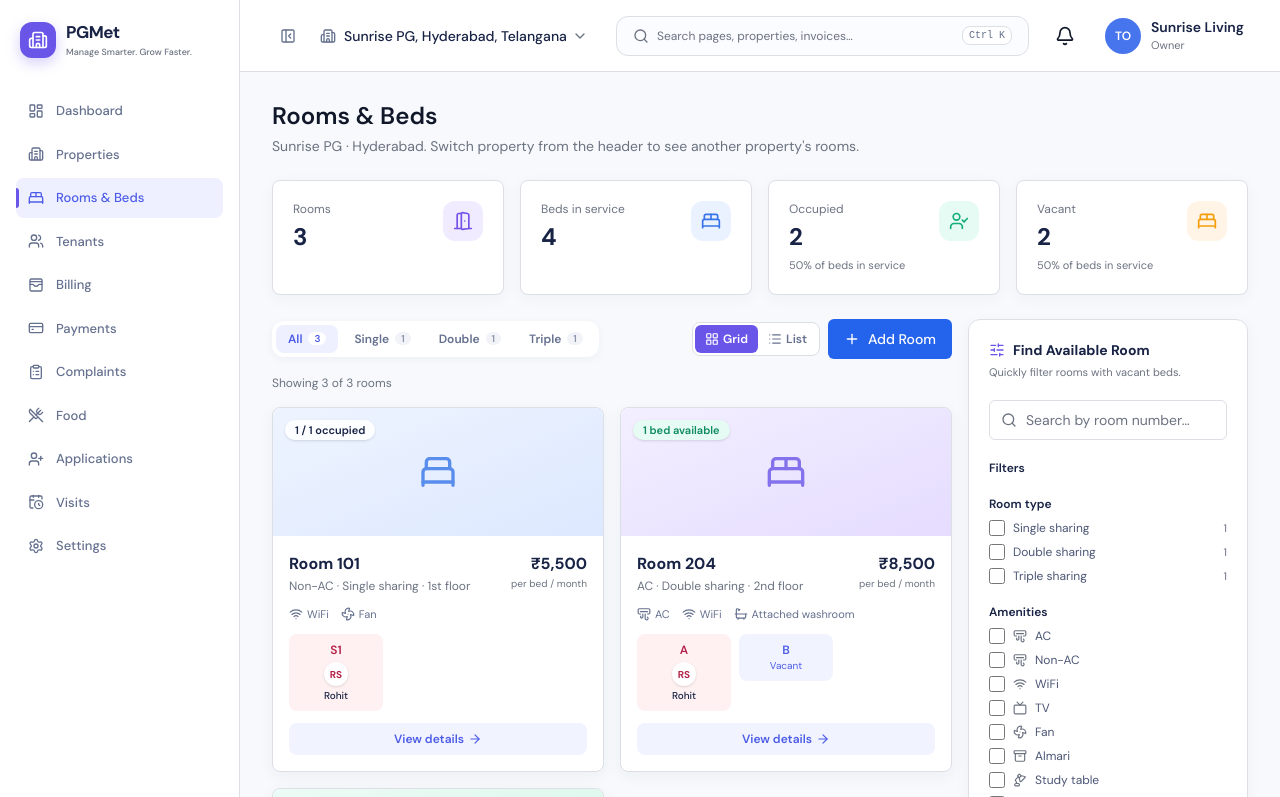
Test: Rooms & Beds page › amenity (incl. Non-AC), availability and price filters use the real room data
Check: the list named "Beds in room 204" is shown, box [637,634,833,711]
Click the checkbox labelled "Non-AC": x=997, y=660 [989,652,1005,668]
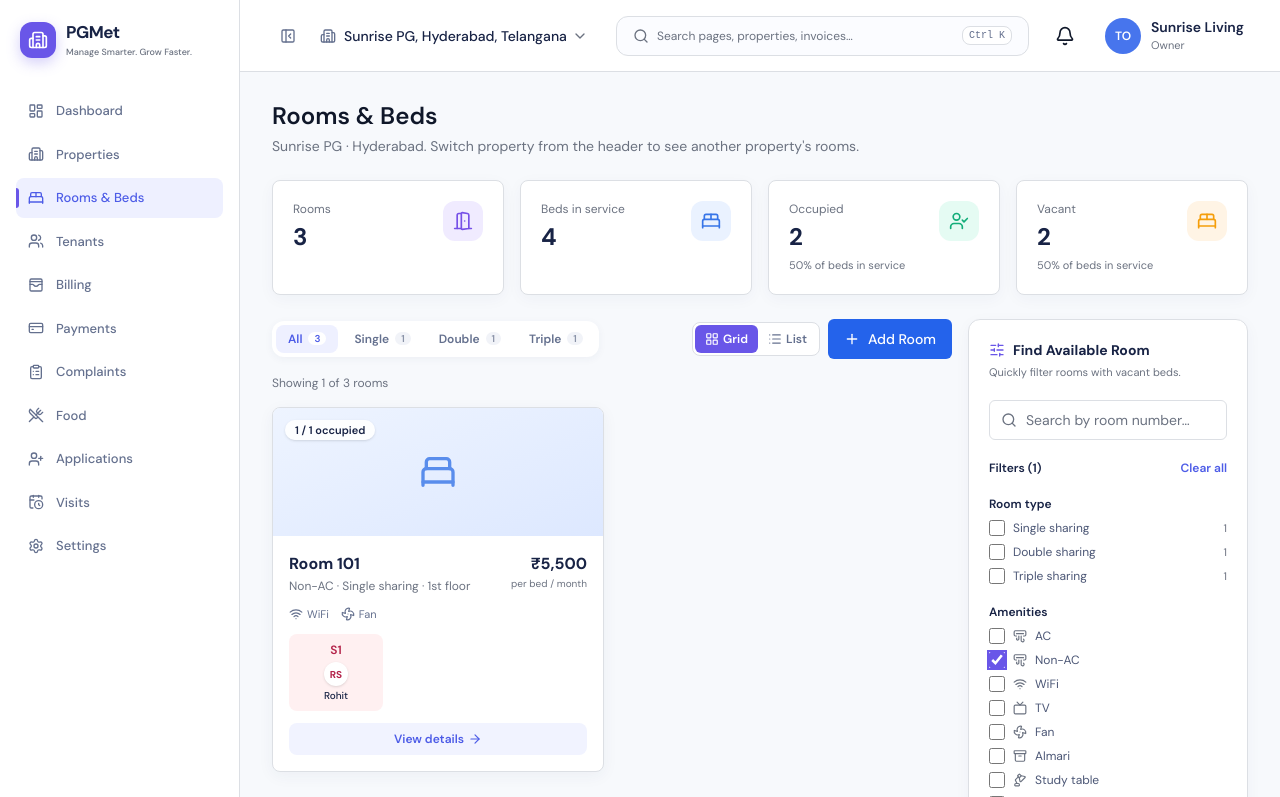
Check: the heading "Room 101" is shown, box [289,552,360,574]
Check: the heading "Room 204" is gone
Click the checkbox labelled "Non-AC": x=997, y=660 [989,652,1005,668]
(page scrolled)
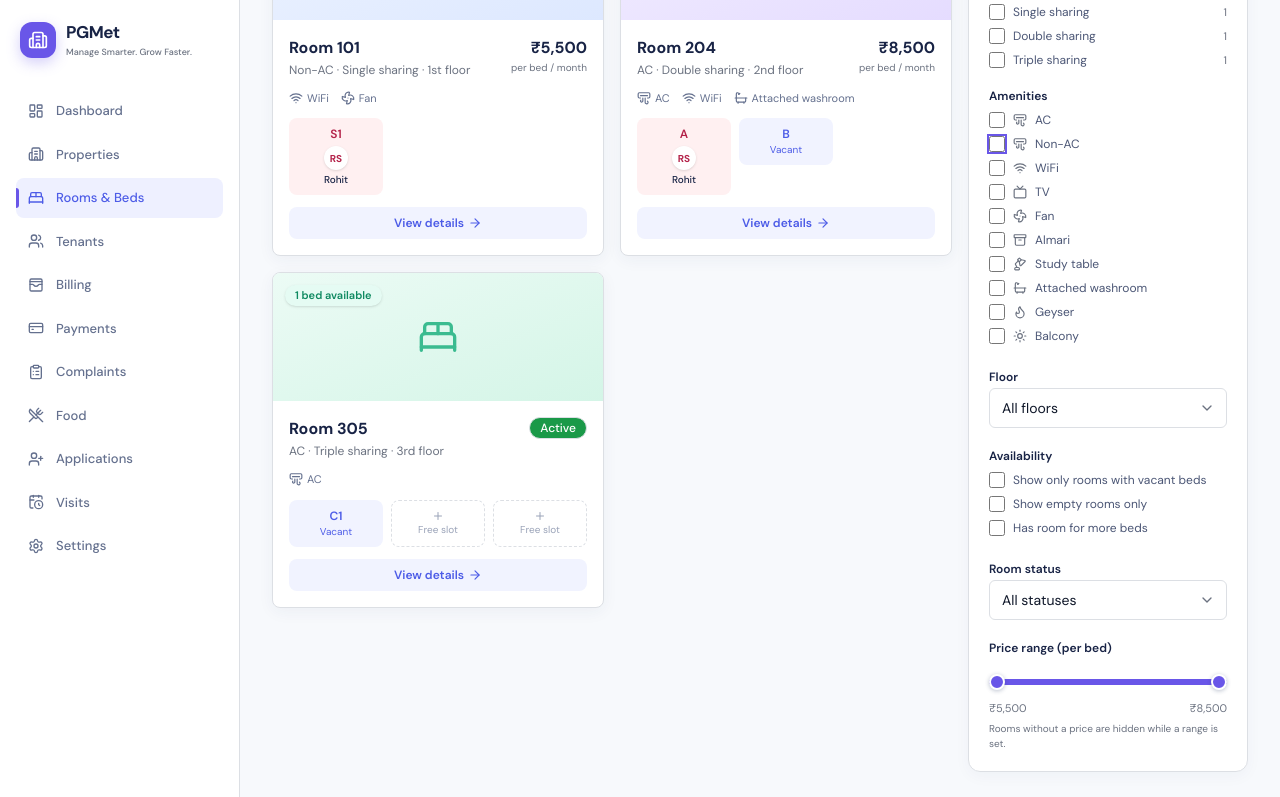
Click the checkbox labelled "Show only rooms with vacant beds": x=997, y=480 [989,472,1005,488]
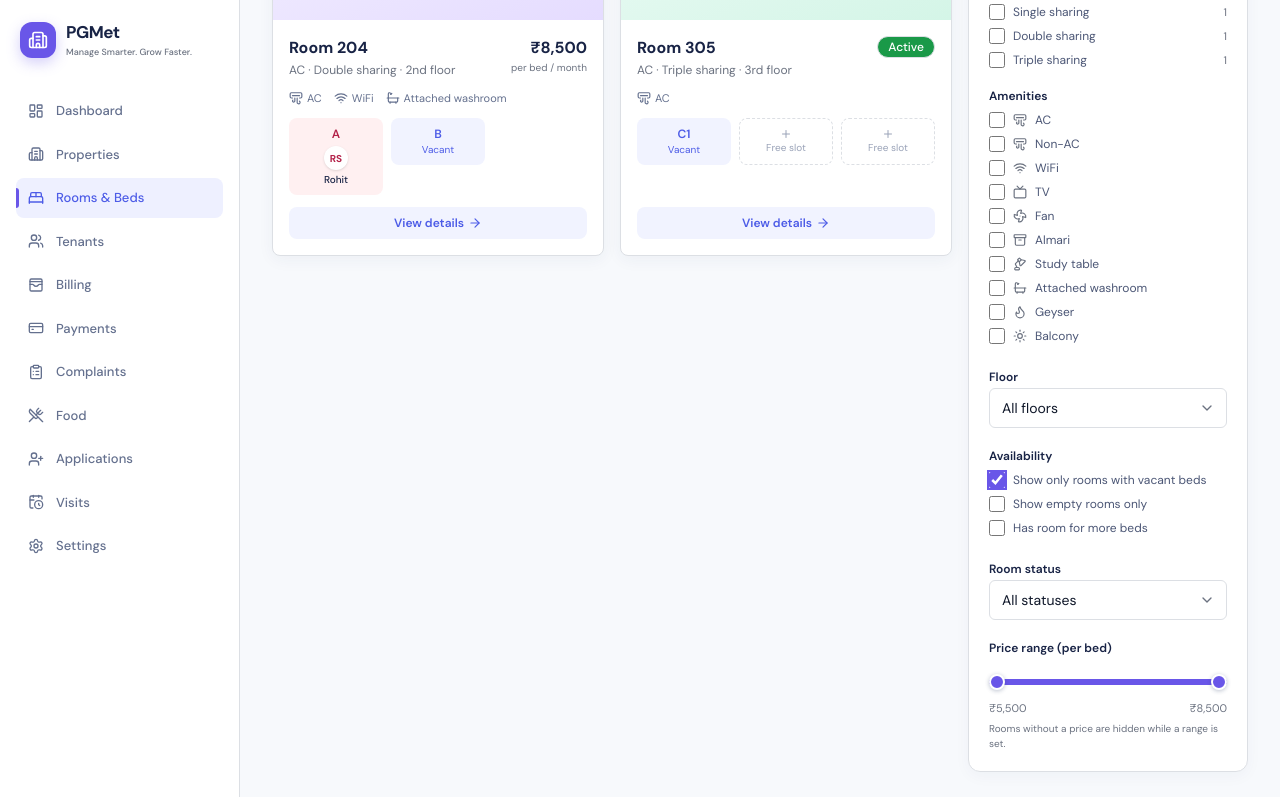
Check: the heading "Room 204" is shown, box [289,36,368,58]
Check: the heading "Room 305" is shown, box [637,36,716,58]
Check: the heading "Room 101" is gone
Click the checkbox labelled "Show empty rooms only": x=997, y=504 [989,496,1005,512]
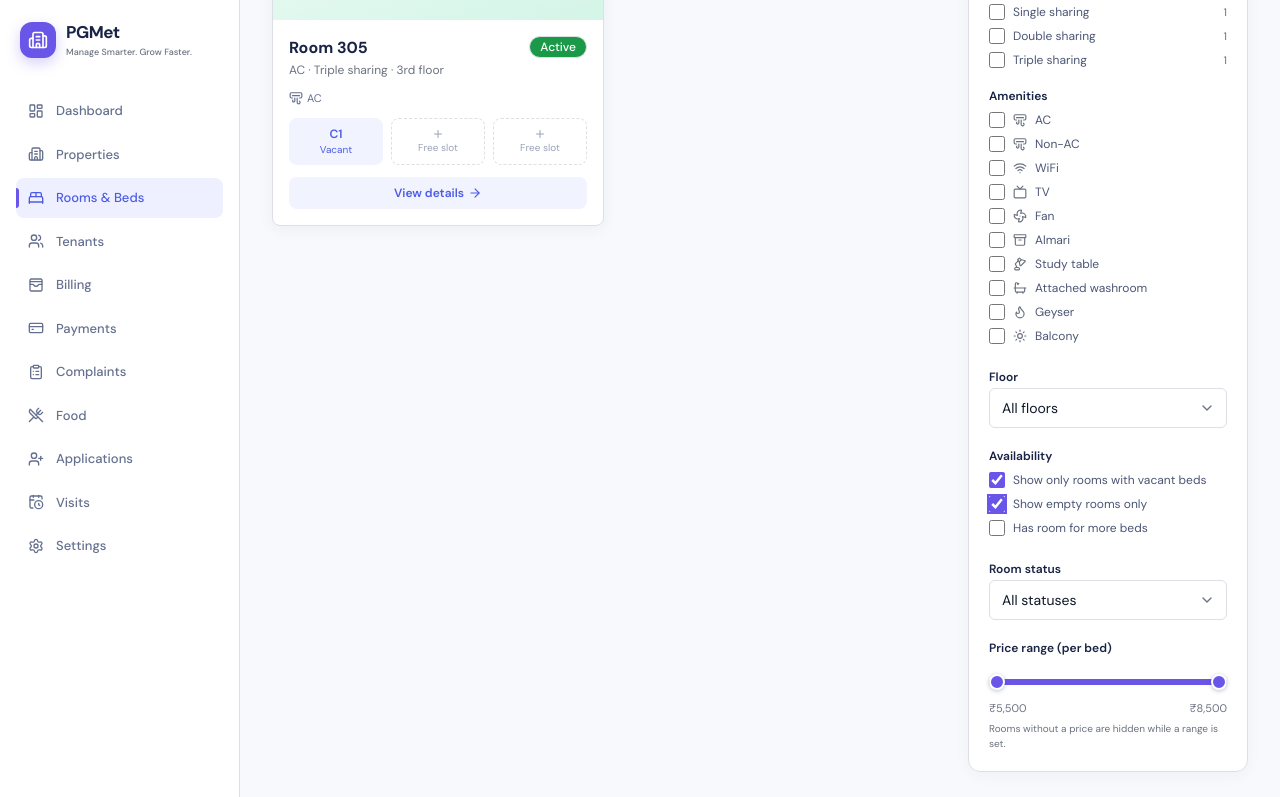
Check: the heading "Room 305" is shown, box [289,36,368,58]
Check: the heading "Room 204" is gone
